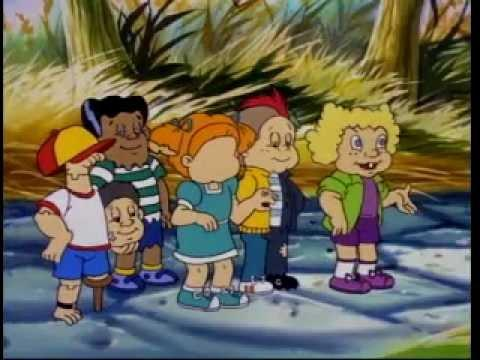person: (36, 126, 148, 338), (66, 90, 182, 289), (164, 114, 265, 319), (313, 115, 416, 290), (236, 102, 303, 292)
